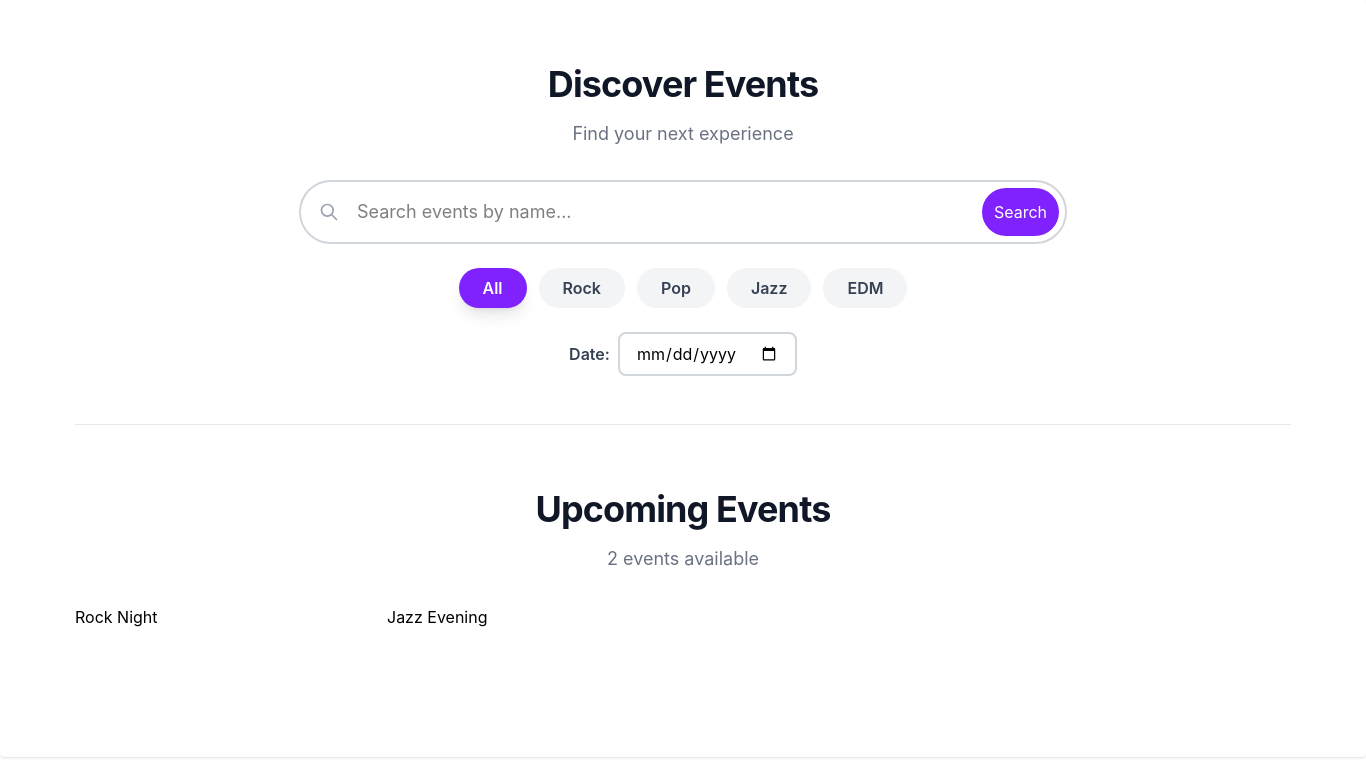
Test: product-page.vue (event list) › filters by name, ignoring case
This screenshot has width=1366, height=768.
Type "jAzZ" into the field with placeholder "Search events by name...".
click(683, 212); type("jAzZ")  # box [299, 180, 1067, 244]
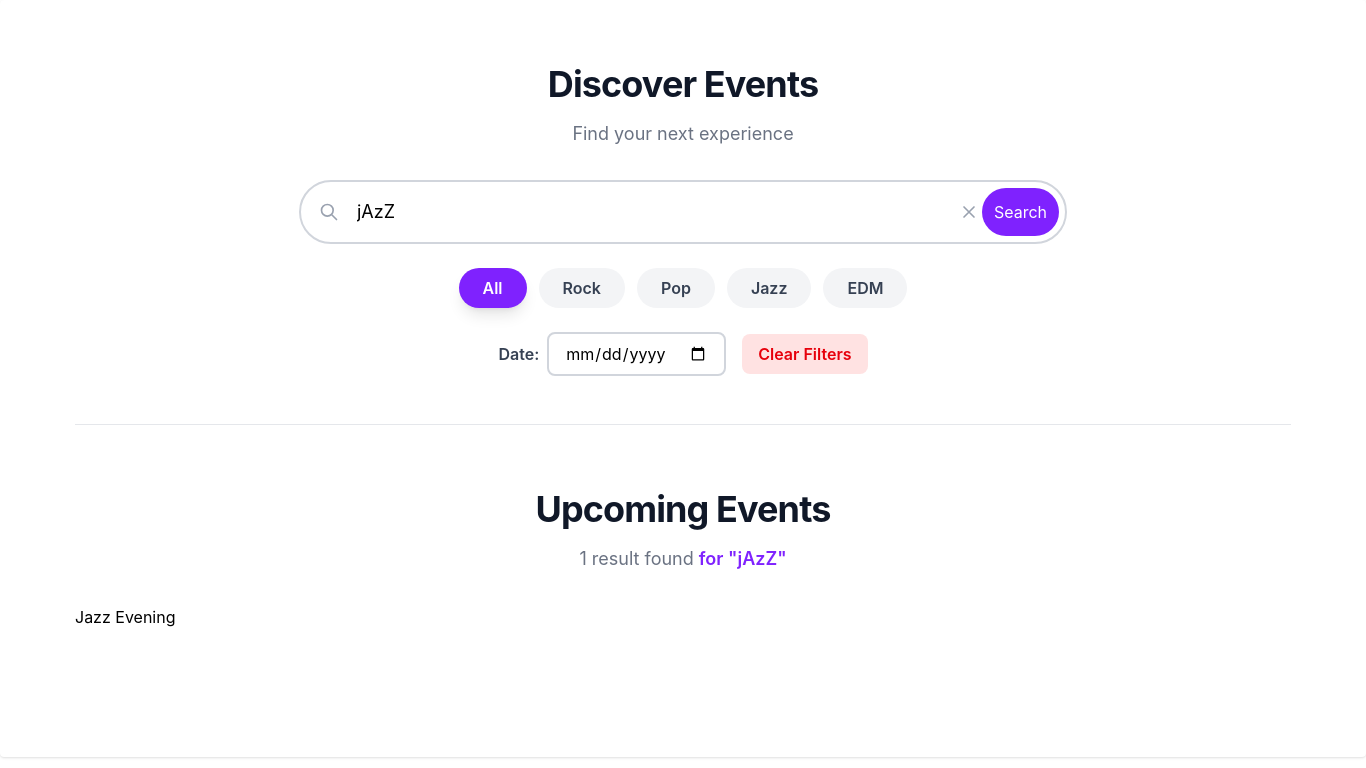
Result: the text "1 result found" is shown at [579, 548, 699, 569]
